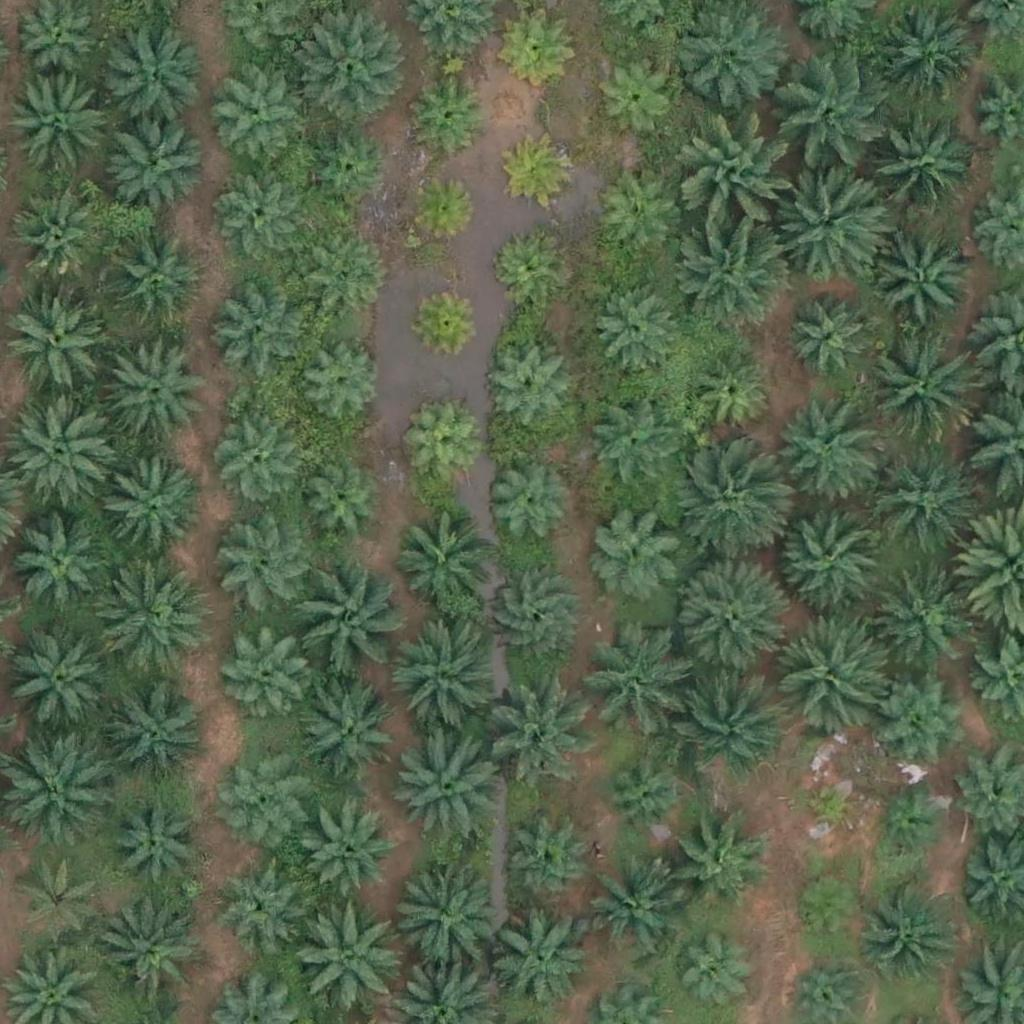Kelapa_Sawit: (385, 727, 498, 841), (862, 113, 975, 227), (863, 332, 976, 445), (867, 444, 980, 557), (774, 499, 887, 612), (671, 560, 784, 673), (382, 858, 495, 971), (94, 457, 207, 570), (95, 566, 208, 679), (5, 623, 118, 736), (779, 59, 892, 172), (678, 217, 791, 330), (293, 8, 406, 121), (671, 662, 783, 776), (388, 623, 500, 737), (290, 900, 402, 1014), (684, 121, 796, 235), (767, 400, 879, 513), (772, 617, 884, 730), (669, 451, 781, 564), (482, 668, 594, 781), (286, 562, 398, 675), (6, 401, 118, 514), (3, 739, 115, 852), (774, 164, 886, 277), (871, 565, 971, 666), (873, 666, 973, 767), (665, 814, 765, 915), (579, 863, 679, 964), (579, 635, 679, 736), (489, 911, 589, 1012), (392, 511, 492, 612), (295, 679, 395, 780), (216, 516, 316, 617), (105, 336, 205, 437), (99, 909, 199, 1010), (12, 516, 112, 617), (874, 229, 974, 330), (101, 28, 201, 129), (106, 111, 206, 212), (6, 284, 106, 385), (105, 228, 205, 329), (212, 280, 312, 381), (8, 76, 108, 177), (864, 880, 964, 981), (586, 501, 686, 601), (484, 569, 584, 669), (875, 7, 975, 107), (106, 684, 205, 785), (686, 350, 774, 438), (600, 752, 688, 840), (481, 343, 569, 431), (307, 812, 395, 900), (207, 415, 295, 503), (303, 123, 391, 211), (303, 241, 391, 329), (786, 295, 874, 383), (589, 51, 677, 139), (594, 174, 682, 262), (213, 79, 301, 167), (214, 171, 302, 259), (586, 400, 673, 489), (18, 855, 105, 944), (483, 459, 570, 547), (505, 821, 592, 909), (299, 339, 386, 427), (296, 463, 383, 551), (210, 858, 297, 946), (219, 746, 306, 834), (222, 631, 309, 719), (113, 797, 200, 885), (593, 283, 680, 371), (11, 193, 98, 281), (488, 229, 563, 305), (671, 938, 746, 1014), (872, 786, 947, 862), (791, 873, 866, 949), (405, 409, 480, 485), (410, 282, 485, 358), (503, 133, 578, 209), (413, 75, 488, 150), (405, 172, 480, 247), (503, 11, 578, 86), (798, 774, 860, 837)
